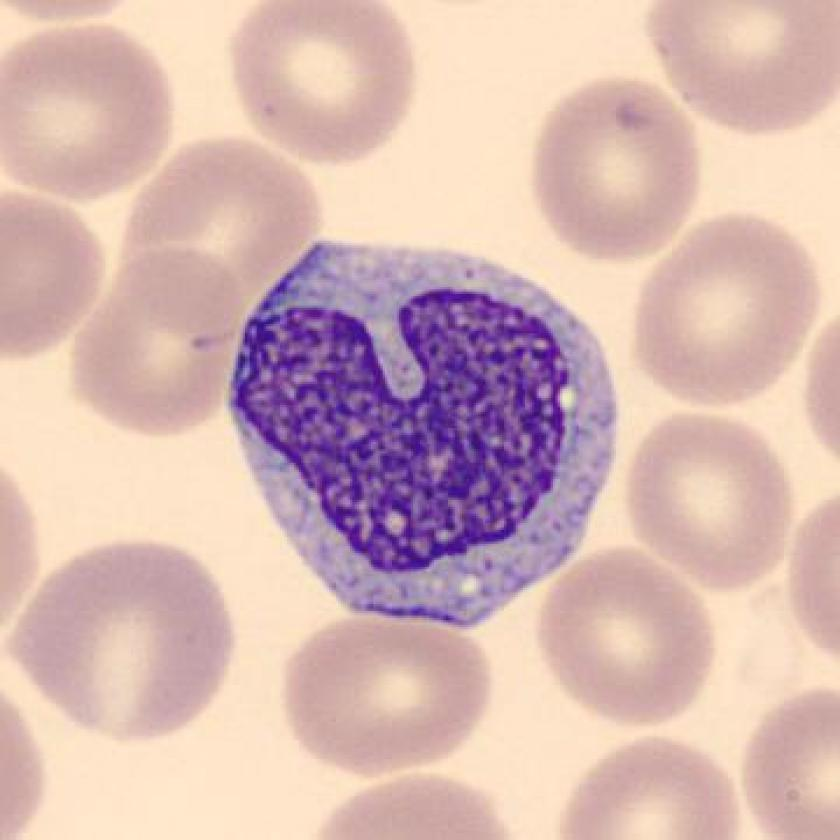monocyte: (211, 219, 636, 645)
